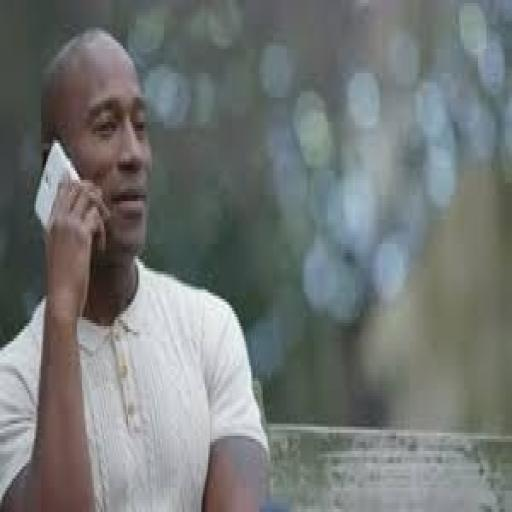calling: (0, 24, 273, 509)
